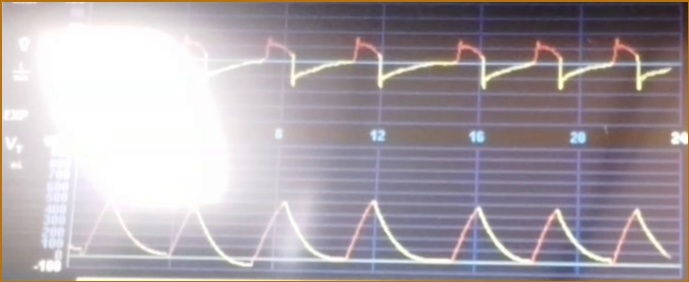Normal Flow: (180, 18, 672, 113)
Normal Volume: (73, 187, 673, 272)
